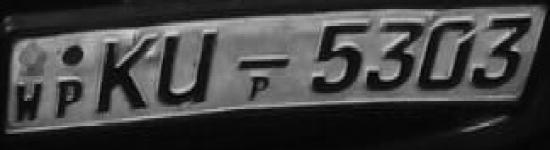-: (234, 49, 294, 80)
0: (418, 17, 476, 94)
3: (470, 9, 536, 94), (369, 14, 427, 96)
5: (310, 15, 372, 95)
K: (92, 28, 159, 120)
P: (53, 76, 86, 122)
U: (159, 24, 220, 112)
W: (14, 78, 46, 126)
